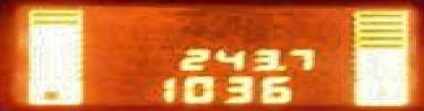-: (275, 65, 286, 71)
0: (179, 73, 213, 103)
1: (153, 74, 176, 102)
2: (177, 46, 208, 70)
3: (218, 73, 255, 103), (247, 46, 278, 71)
4: (213, 47, 247, 69)
6: (257, 74, 294, 103)
7: (286, 46, 314, 71)
